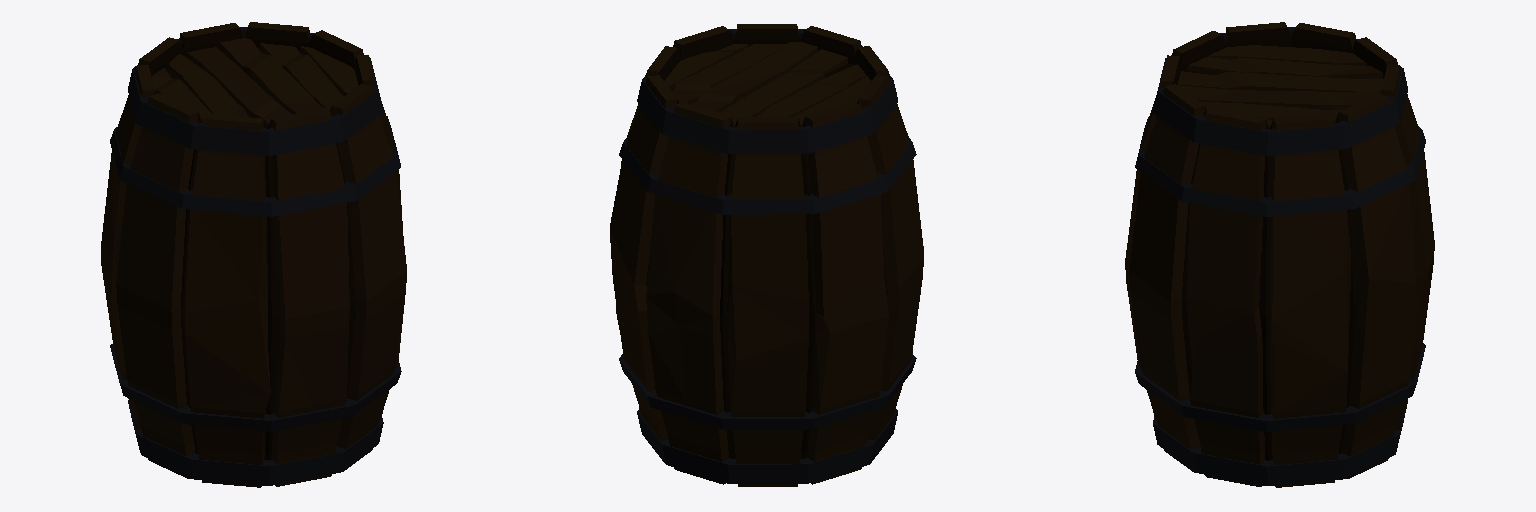
The model's file is Barrel.obj.
The picture shows the model from 3 angles: view 1: azimuth 30°, elevation 25°; view 2: azimuth 150°, elevation 25°; view 3: azimuth 270°, elevation 25°; orthographic projection.
Visible parts, largest first — view 1: Barrel.001; view 2: Barrel.001; view 3: Barrel.001.
Part boxes in pixels (bbox=[...]): Barrel.001: bbox=[101, 22, 406, 487]; Barrel.001: bbox=[610, 24, 923, 486]; Barrel.001: bbox=[1125, 22, 1434, 487].
Bounding box in the file's own units: 0.8314 × 1.07 × 0.8241.